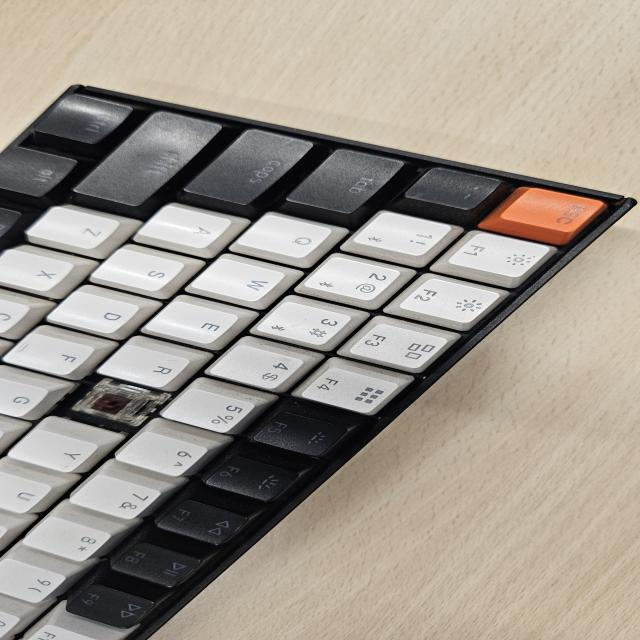C: (72, 377, 137, 428)
